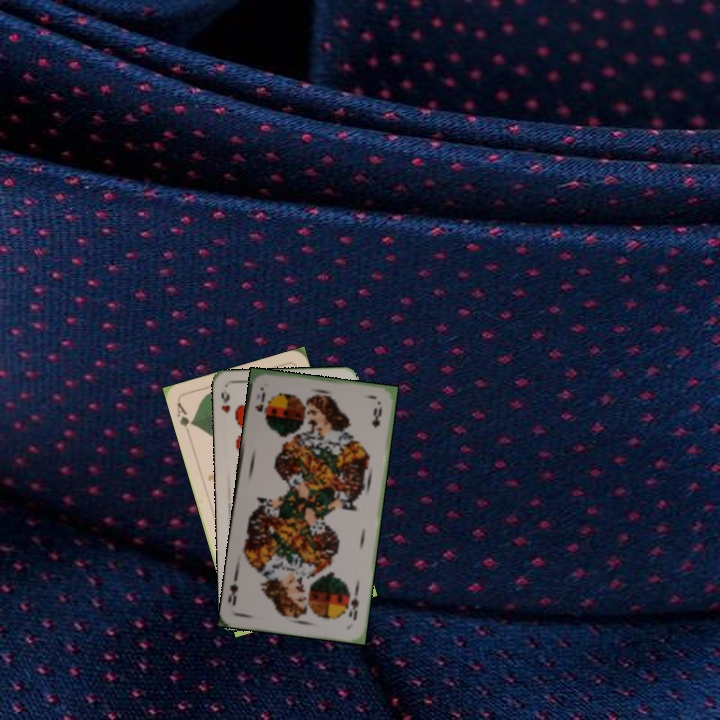GA: (173, 398, 197, 438)
H9: (217, 386, 233, 416)
SO: (251, 388, 269, 424), (345, 586, 362, 623)
